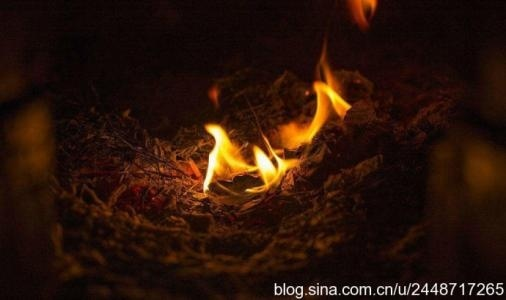fire: (199, 40, 353, 195)
